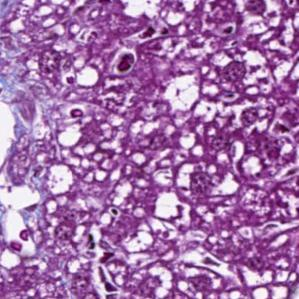ballooning: (162, 69, 202, 116)
